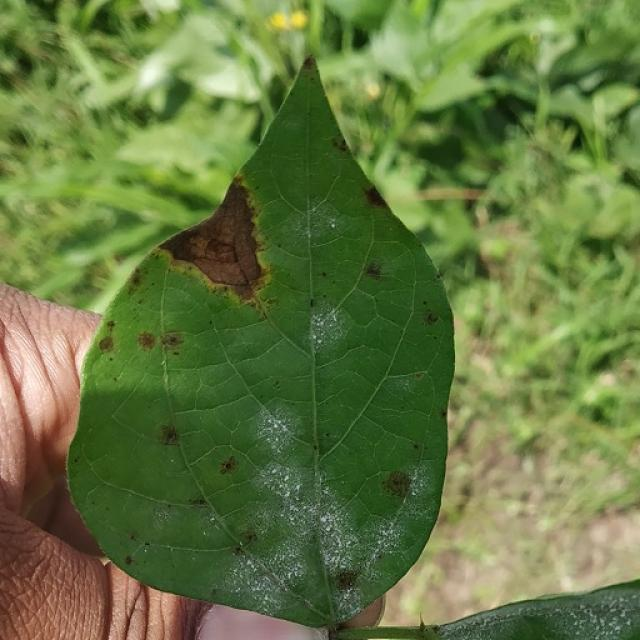Blackgram: (68, 61, 454, 625)
Powdery_Mildew: (243, 418, 335, 577), (301, 462, 376, 602), (230, 536, 320, 621), (350, 499, 414, 571), (541, 593, 636, 640), (445, 607, 554, 638), (286, 200, 348, 251), (256, 406, 302, 466), (326, 577, 372, 625), (258, 405, 298, 458), (309, 305, 348, 353), (568, 602, 612, 631), (272, 470, 300, 502), (611, 621, 623, 635), (323, 520, 334, 533), (411, 485, 418, 497), (320, 514, 329, 523), (311, 333, 317, 342), (330, 221, 336, 229), (143, 546, 149, 553), (170, 458, 175, 464)
